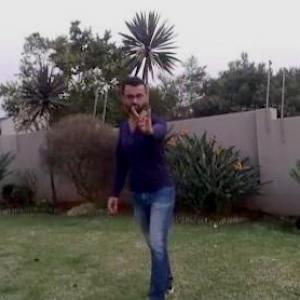takeoff-hand: (127, 99, 160, 139)
